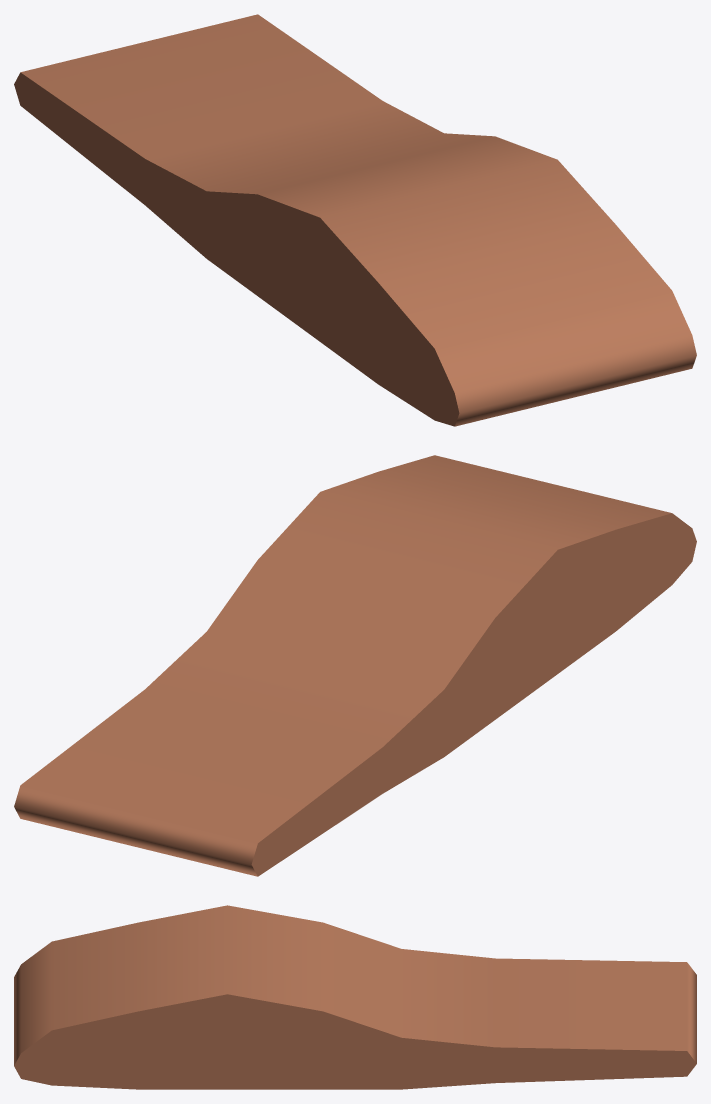
Rendered from Salmon_Mesh_01.fbx.
3 views of the same model, one above another, from view 1: azimuth 30°, elevation 25°; view 2: azimuth 150°, elevation 25°; view 3: azimuth 270°, elevation 25° (orthographic). The views are drawn at different scales.
Visible parts, largest first — view 1: Salmon; view 2: Salmon; view 3: Salmon.
Part boxes in pixels (<box>): Salmon: <box>14,14,696,426</box>; Salmon: <box>14,455,696,876</box>; Salmon: <box>14,905,696,1089</box>.
Size of the model in its own units: 0.2718 by 0.1359 by 0.8827.
